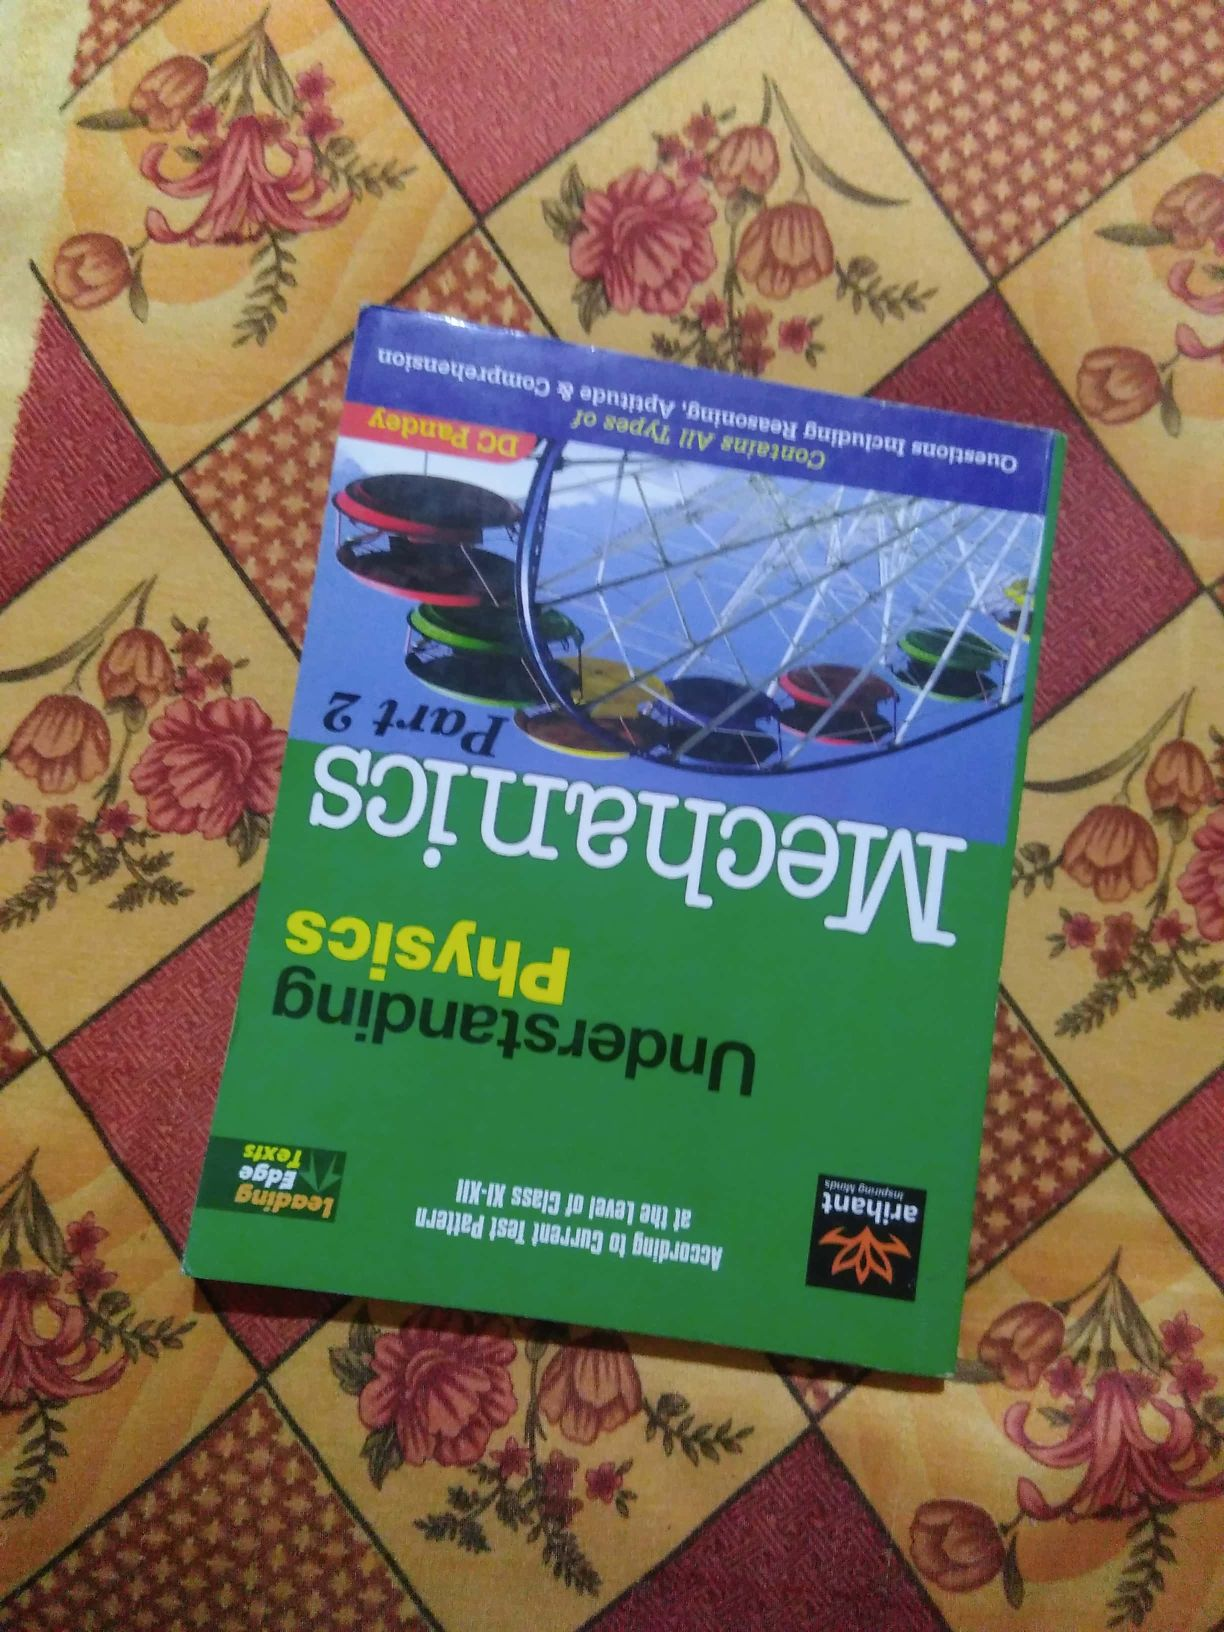mechanics: (215, 302, 1048, 1380)
